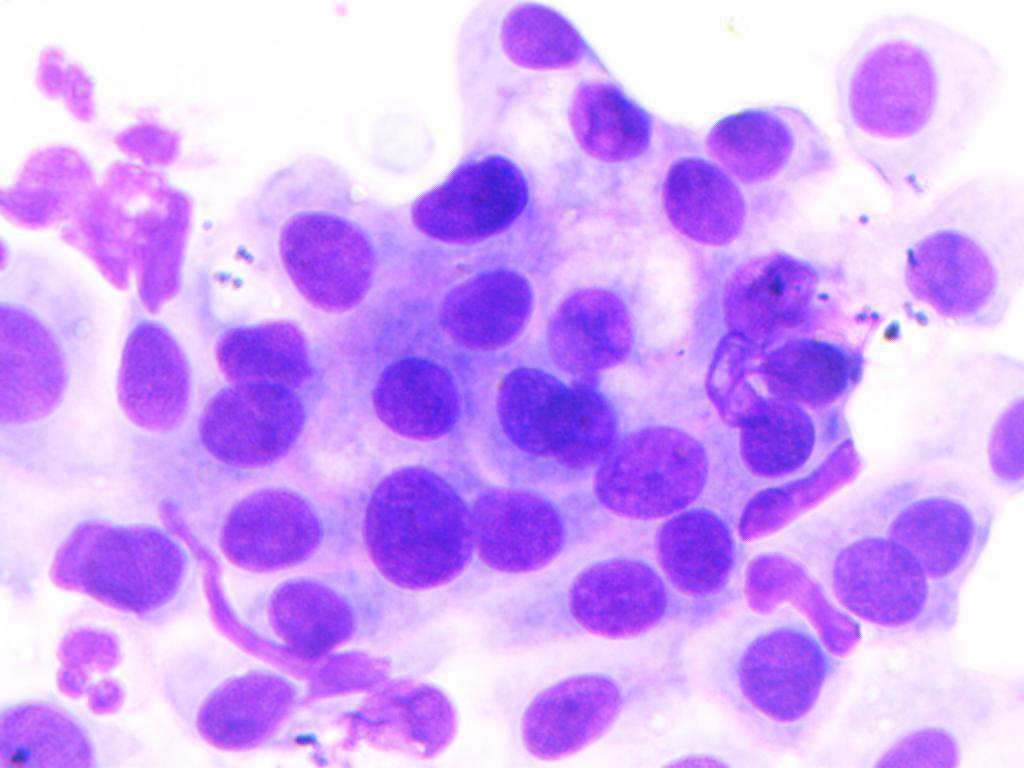artifact: (2, 142, 227, 311), (23, 36, 189, 167), (736, 437, 877, 543), (749, 539, 863, 653)
epithelial: (825, 8, 1012, 181), (398, 149, 551, 268), (355, 446, 476, 591), (50, 511, 196, 621), (152, 654, 302, 756), (898, 199, 1017, 326), (265, 196, 385, 316), (504, 559, 665, 645), (0, 276, 80, 449), (714, 249, 841, 350), (651, 142, 751, 263), (511, 658, 625, 764), (590, 425, 710, 518), (722, 624, 826, 730), (472, 478, 577, 580), (105, 318, 198, 433), (872, 484, 994, 571), (822, 534, 925, 633), (426, 263, 538, 352), (540, 280, 652, 369), (358, 354, 470, 443), (196, 382, 305, 472), (338, 677, 462, 754), (555, 75, 657, 166), (547, 373, 643, 468), (215, 487, 326, 568), (211, 313, 321, 393), (700, 97, 803, 182), (744, 341, 863, 409), (490, 371, 574, 463), (3, 684, 94, 768), (730, 393, 816, 481), (487, 4, 597, 72), (267, 573, 358, 654), (844, 718, 981, 768), (989, 366, 1024, 498)
neutrophil: (39, 628, 143, 722)
